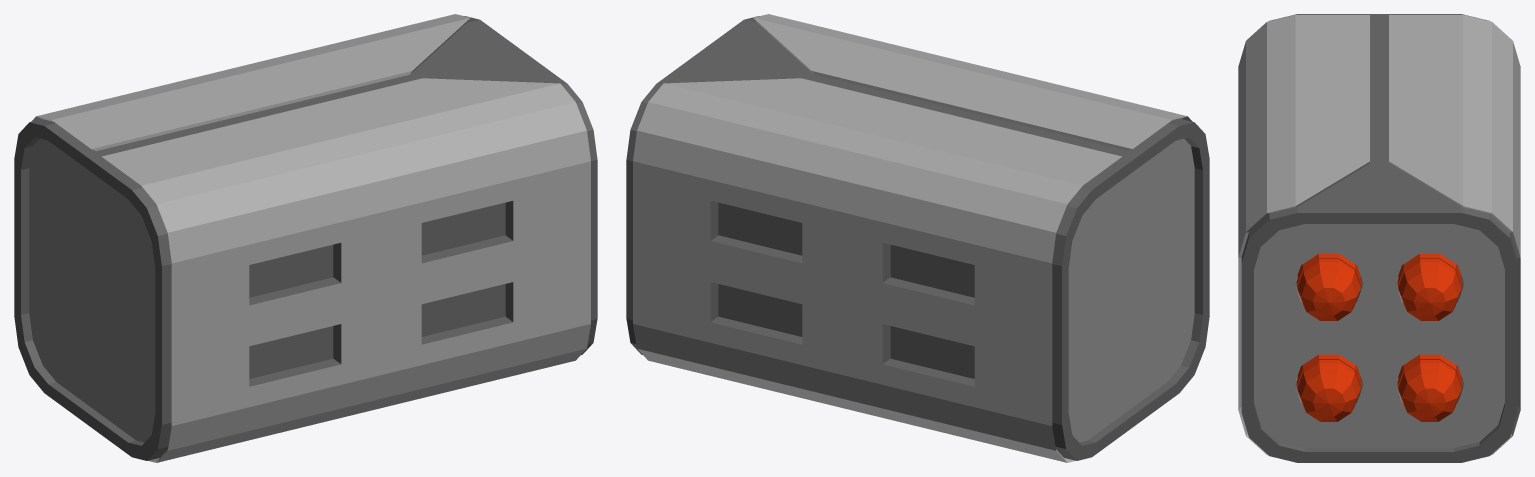
The model's file is Blind Missile Battery.fbx.
The picture shows the model from 3 angles, left to right: view 1: azimuth 30°, elevation 25°; view 2: azimuth 150°, elevation 25°; view 3: azimuth 270°, elevation 25°; orthographic projection. The views are drawn at different scales.
Visible parts, largest first — view 1: Mesh; view 2: Mesh; view 3: Mesh.
Boxes of the visible parts, x1,y1,x2,y2 form: Mesh: (14,14,597,462); Mesh: (626,14,1209,462); Mesh: (1238,14,1520,462).
Bounding box in the file's own units: 359 × 200 × 200.
